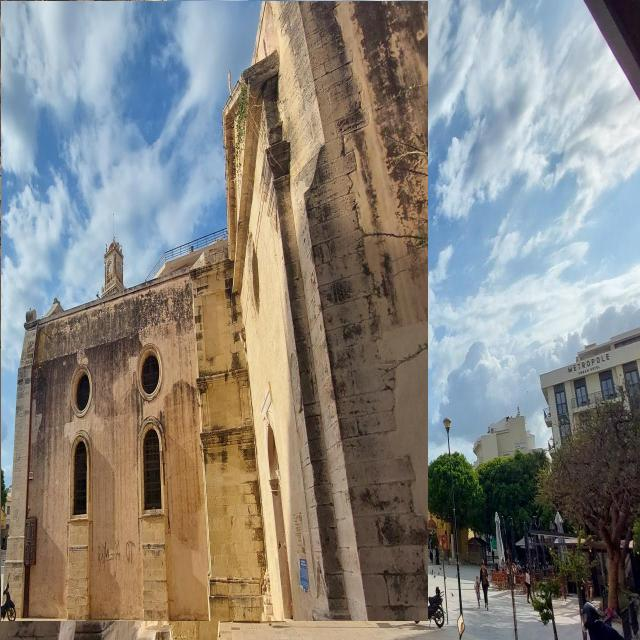Agia Aikaterini: (2, 2, 429, 622)
